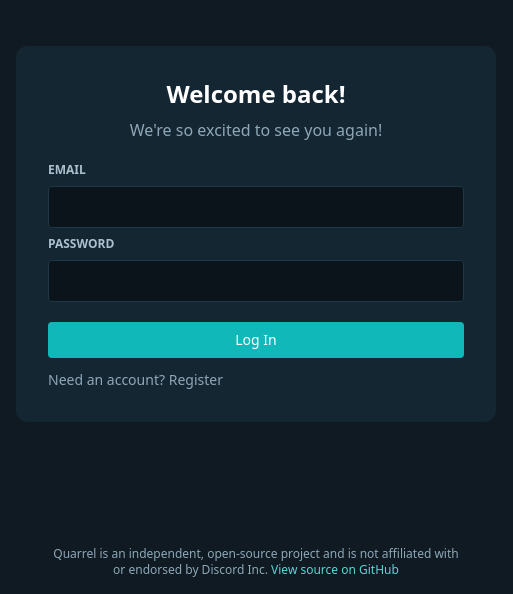
Test: LoginPage › shows error on empty submit
What coordinates should you click on to do the following:
click the button "Log In"
I would click on:
 (256, 340)
Its box is [48,322,464,358].
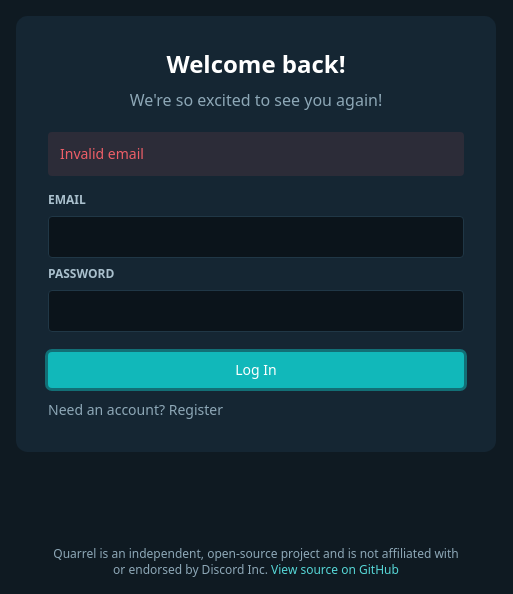
Now the text "Invalid email" is shown, box [48,132,464,176]
